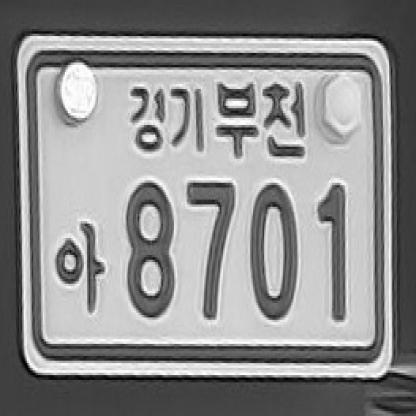bnum: (11, 24, 400, 389)
